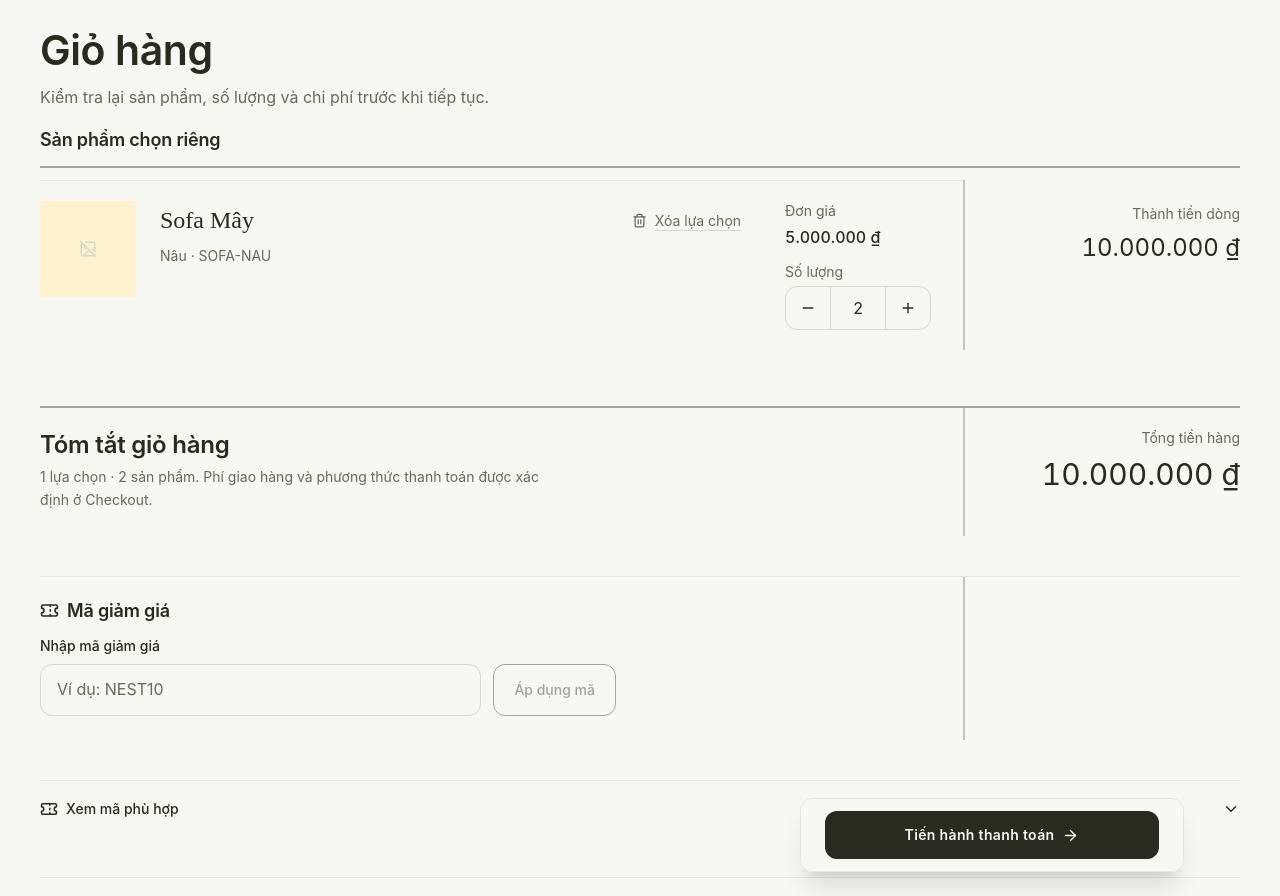
Test: CartPage › applies a voucher to the order summary without changing the cart total
Expected: the link "Sofa Mây" is shown, [160,204,254,237]
Step 1. Click the heading "Xem mã phù hợp" → (122,808), box [40,800,1240,818]
(page scrolled)
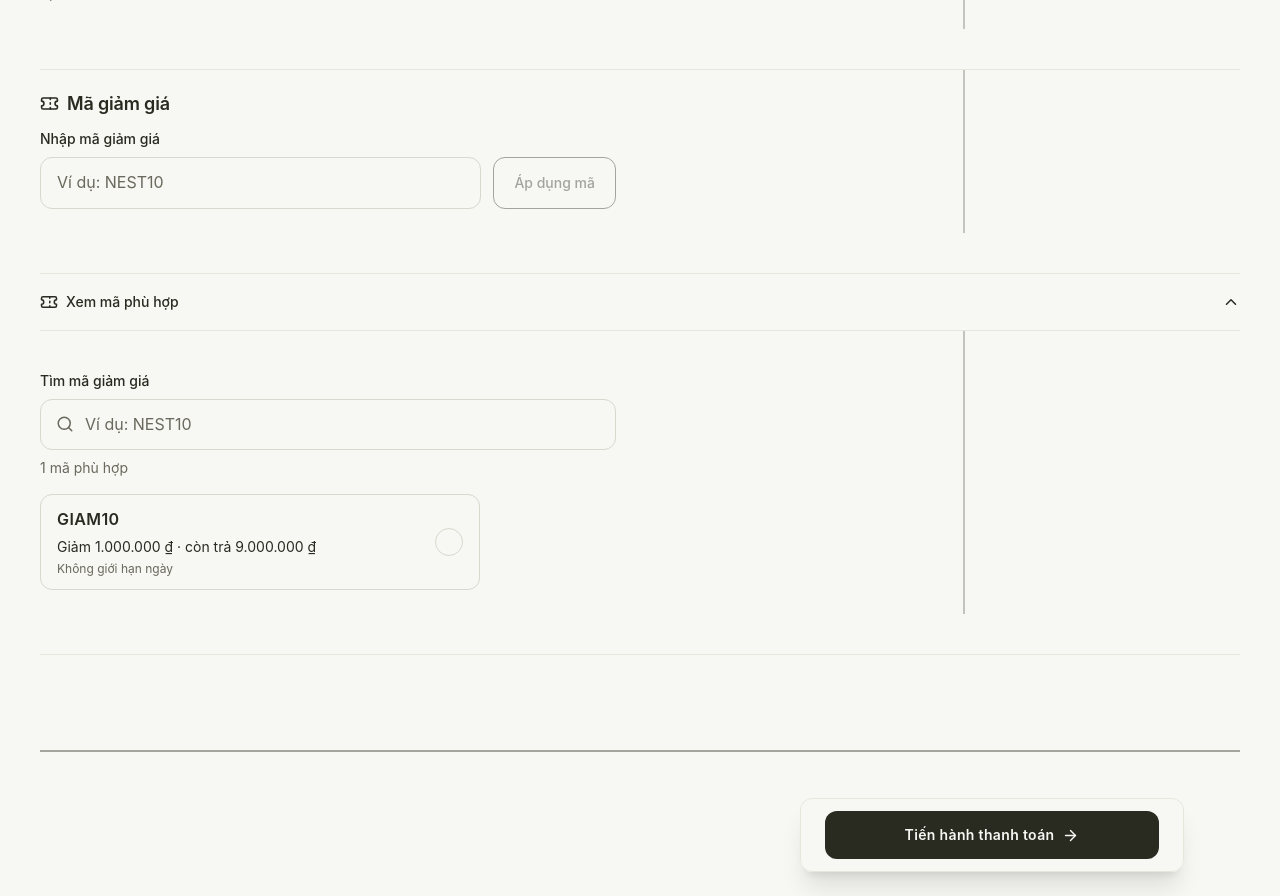
Step 2. Click the radio button labelled "GIAM10" → (260,542), box [40,494,480,590]
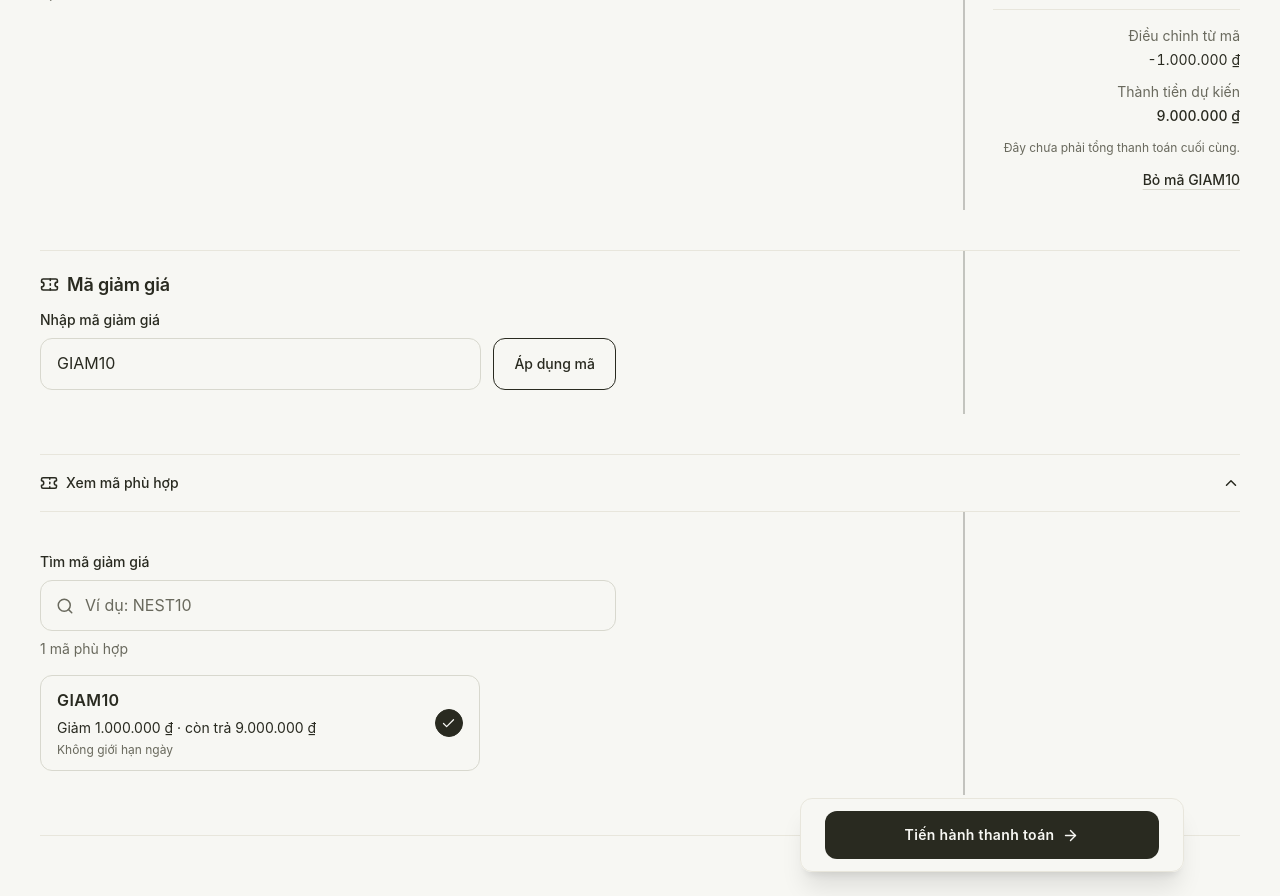
Result: the text "9.000.000 ₫" is shown at [1157,106,1240,126]
Result: the text "-1.000.000 ₫" is shown at [1148,50,1240,70]
